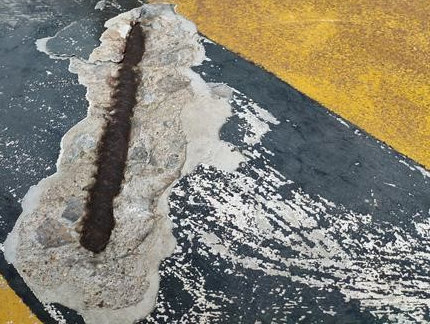Exposed reinforcement: (79, 22, 147, 254)
Spalling: (1, 1, 248, 324)
